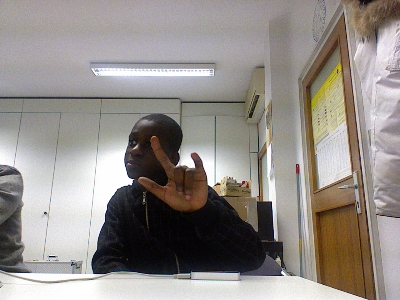我爱你: (136, 135, 208, 213)
